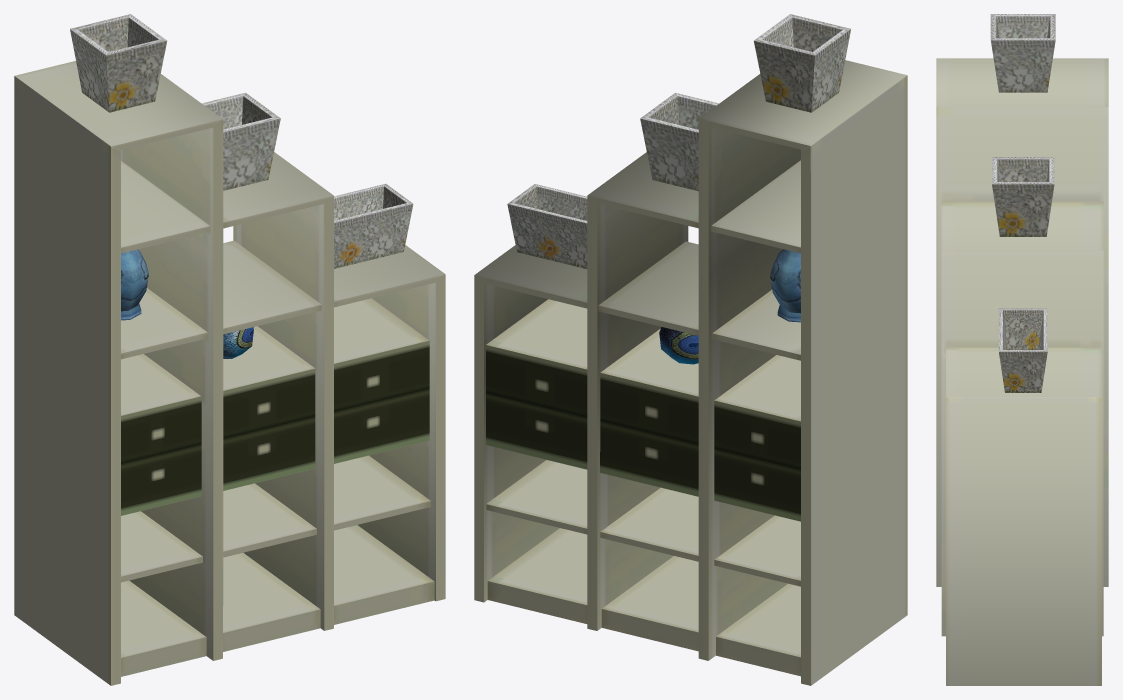
The model's file is furni_0200104_01.FBX.
3 renders of one model, left to right at view 1: azimuth 30°, elevation 25°; view 2: azimuth 150°, elevation 25°; view 3: azimuth 270°, elevation 25°, orthographic. The views are drawn at different scales.
Parts seen in each view (by area): view 1: furni_0200104_01; view 2: furni_0200104_01; view 3: furni_0200104_01.
Boxes of the visible parts, x1=… form: furni_0200104_01: x1=14, y1=14, x2=445, y2=685; furni_0200104_01: x1=474, y1=14, x2=907, y2=685; furni_0200104_01: x1=936, y1=14, x2=1108, y2=685.
Size of the model in its own units: 142 by 239 by 69.73.
